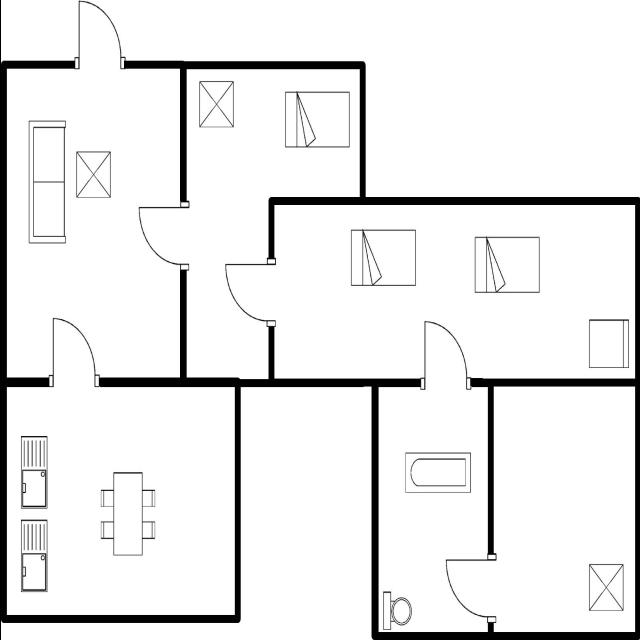bed: (468, 230, 543, 302), (280, 86, 356, 152), (346, 224, 418, 292)
coffee_table: (583, 554, 627, 616), (196, 75, 237, 135), (72, 145, 114, 203)
dining_table: (94, 462, 158, 567)
large_sink: (378, 585, 414, 633)
large_sofa: (24, 112, 68, 248)
sink: (16, 515, 52, 597), (16, 430, 50, 512)
small_sofa: (584, 314, 632, 372)
tub: (398, 446, 475, 499)
